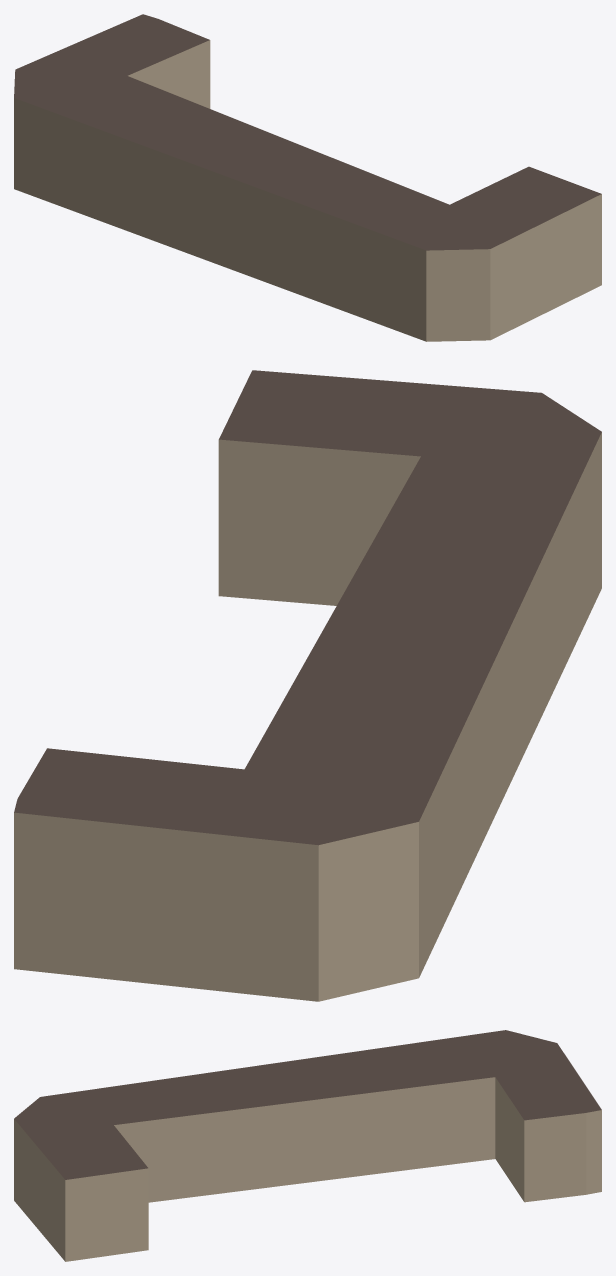
The picture shows the model from 3 angles, top to bottom: view 1: azimuth 30°, elevation 25°; view 2: azimuth 150°, elevation 25°; view 3: azimuth 270°, elevation 25°; orthographic projection. The views are drawn at different scales.
Parts seen in each view (by area): view 1: HP-w756799571; view 2: HP-w756799571; view 3: HP-w756799571.
Part boxes in pixels (bbox=[...]): HP-w756799571: bbox=[14, 14, 601, 341]; HP-w756799571: bbox=[14, 370, 601, 1001]; HP-w756799571: bbox=[14, 1030, 601, 1261].
Size of the model in its own units: 35.35 by 9 by 58.55.
